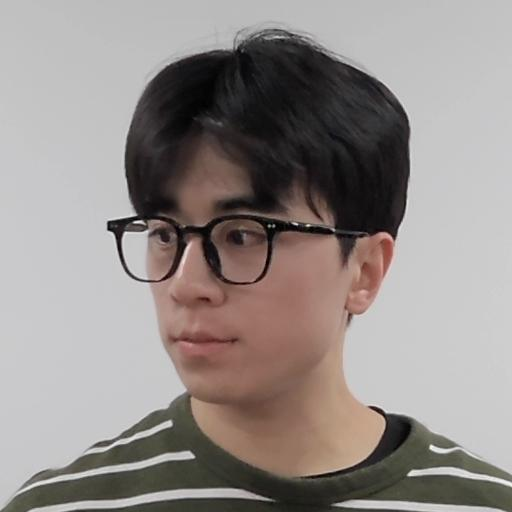no_glasses: (96, 37, 420, 400)
